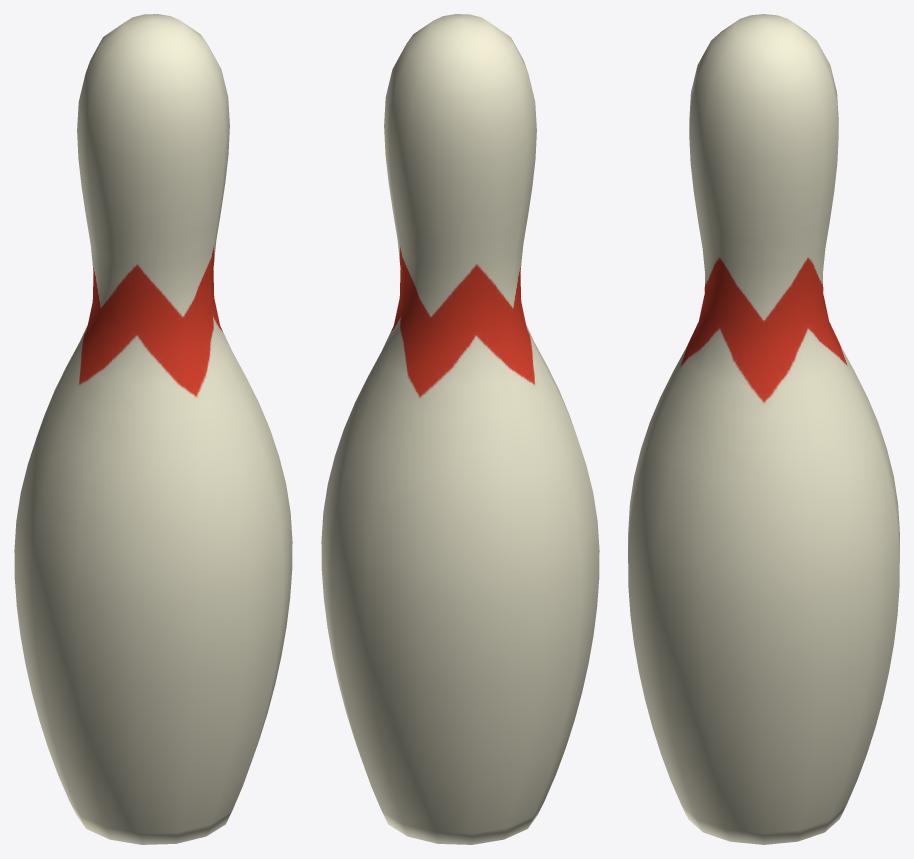
Rendered from bwg_Pin__bwg_pin_866_10.glb.
The picture shows the model from 3 angles, left to right: view 1: azimuth 30°, elevation 25°; view 2: azimuth 150°, elevation 25°; view 3: azimuth 270°, elevation 25°; orthographic projection.
Visible parts, largest first — view 1: polygon0; view 2: polygon0; view 3: polygon0.
Part boxes in pixels (x1,y1,x2,y2): polygon0: (14, 14, 292, 844); polygon0: (321, 14, 599, 844); polygon0: (628, 14, 899, 844).
Bounding box in the file's own units: 1.22 × 3.82 × 1.19.
Materials: 1 (1 with a texture image).
